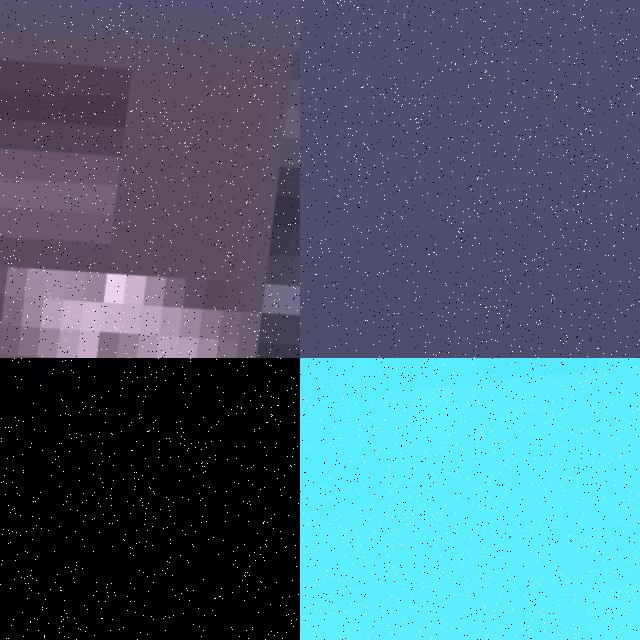drone: (0, 0, 300, 358), (0, 358, 300, 640)
